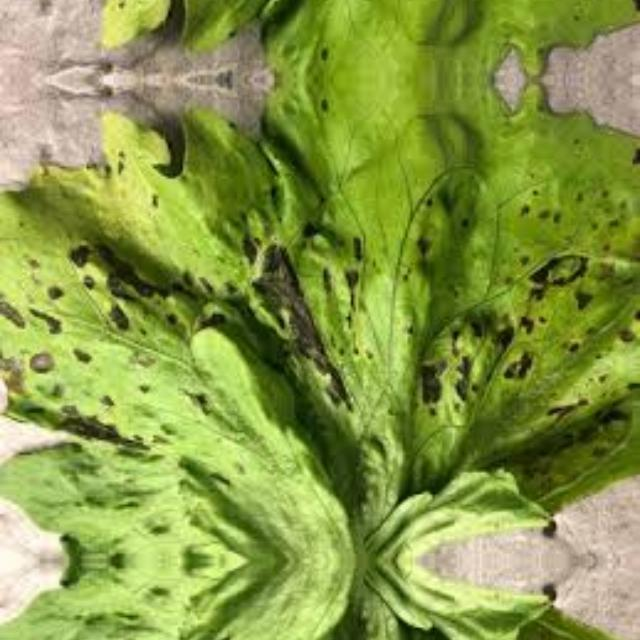Lettuce - Anthracnose: (14, 79, 640, 561), (14, 0, 640, 79), (14, 561, 640, 640)
